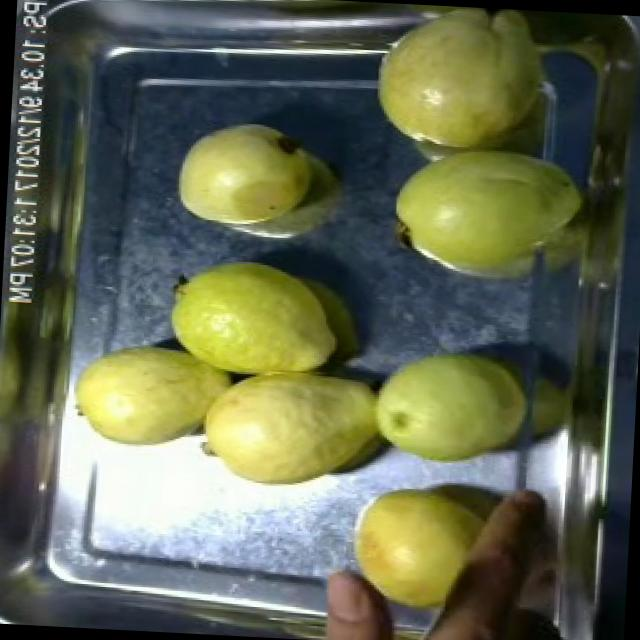Fruit: (378, 133, 594, 300), (363, 2, 565, 166), (184, 368, 407, 508), (357, 331, 542, 484), (154, 245, 356, 384), (334, 472, 498, 634), (54, 331, 235, 472), (165, 114, 324, 240)
